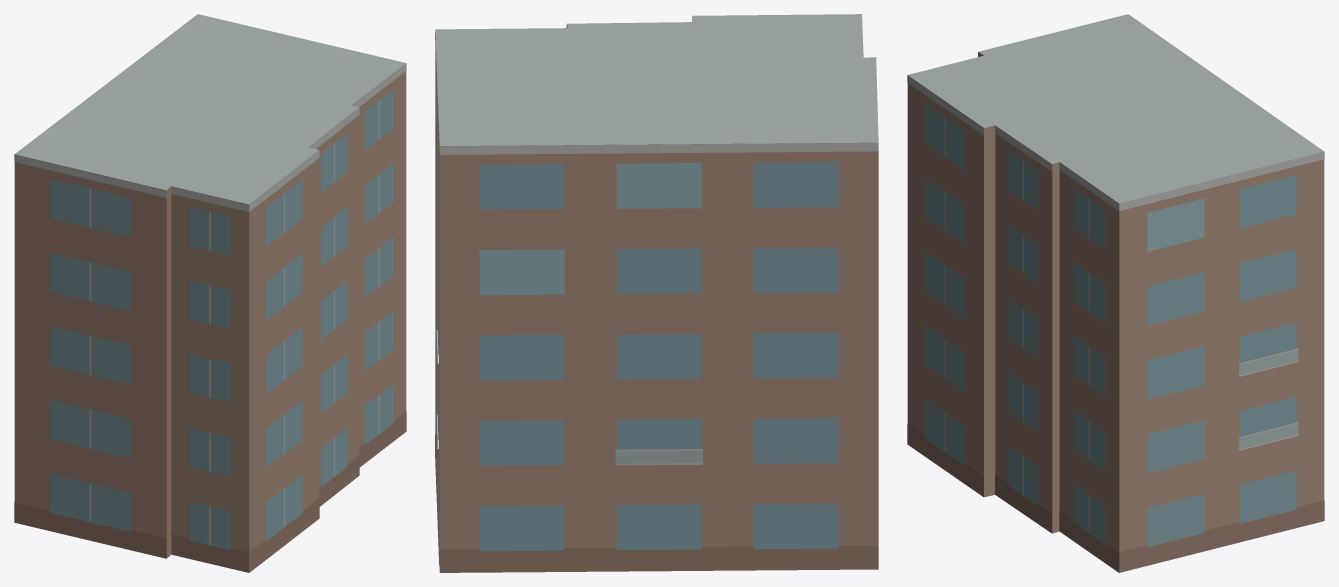
The model's file is survey-upis-32537760.glb.
3 renders of one model, left to right at view 1: azimuth 30°, elevation 25°; view 2: azimuth 150°, elevation 25°; view 3: azimuth 270°, elevation 25°, orthographic. The views are drawn at different scales.
Parts seen in each view (by area): view 1: survey-upis-32537760.tmp; view 2: survey-upis-32537760.tmp; view 3: survey-upis-32537760.tmp.
Boxes of the visible parts, bbox=[...] form: survey-upis-32537760.tmp: bbox=[14, 14, 406, 572]; survey-upis-32537760.tmp: bbox=[435, 14, 878, 572]; survey-upis-32537760.tmp: bbox=[907, 14, 1324, 572].
Size of the model in its own units: 12.99 by 11.8 by 12.08.
